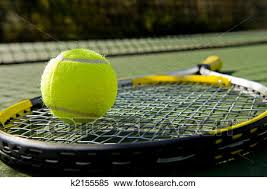tennis_ball: (41, 48, 117, 123)
